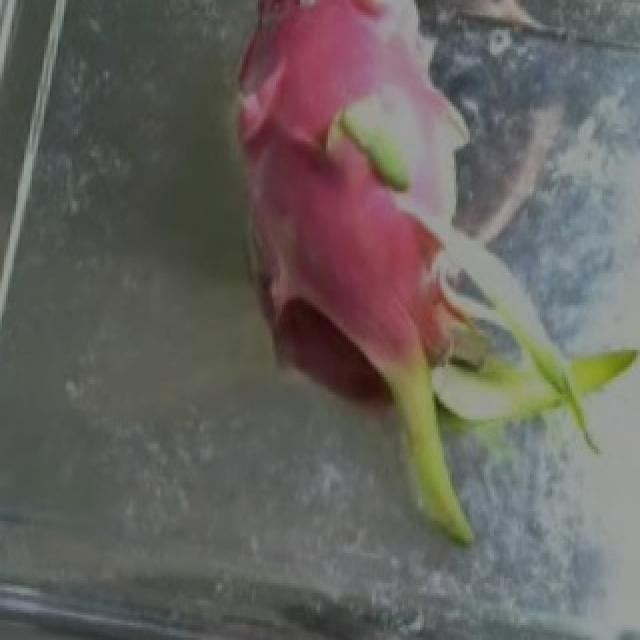fruit: (202, 35, 634, 506)
